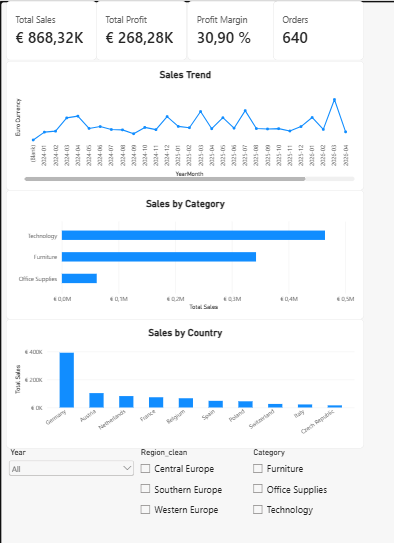

What the dashboard file says about the page in this screenshot:
{"tool":"powerbi","page":{"name":"Executive Overview","canvas":[1920,1080],"ordinal":0},"visuals":[{"type":"cardVisual","fields":{"Data":["FactSales.Total Sales"]},"box":[10,0,167,109],"z":0},{"type":"cardVisual","fields":{"Data":["FactSales.Total Profit"]},"box":[177,1,167,109],"z":1000},{"type":"cardVisual","fields":{"Data":["FactSales.Profit Margin"]},"box":[344,0,167,109],"z":2000},{"type":"cardVisual","fields":{"Data":["FactSales.Orders"]},"box":[501,0,167,109],"z":3000},{"type":"lineChart","title":"Sales Trend","fields":{"Category":["DimDate.YearMonth"],"Y":["FactSales.Total Sales"]},"box":[10,109,658,238],"z":4000},{"type":"barChart","title":"Sales by Category","fields":{"Category":["DimProduct.Category"],"Y":["FactSales.Total Sales"]},"box":[10,347,658,238],"z":5000},{"type":"columnChart","title":"Sales by Country","fields":{"Category":["DimCustomer.Country"],"Y":["FactSales.Total Sales"]},"box":[10,585,658,238],"z":6000},{"type":"slicer","fields":{"Values":["DimDate.Year"]},"box":[10,823,240,137],"z":7000},{"type":"slicer","fields":{"Values":["DimCustomer.Region_clean"]},"box":[250,823,209,137],"z":8000},{"type":"slicer","fields":{"Values":["DimProduct.Category"]},"box":[459,823,209,137],"z":9000}]}

Visuals, with their boxes on the page's 1920x1080 design canvas (x1, y1, x2, y2). These are canvas units, not pixel positions in the 394x543 screenshot, which may show the page scaled, cropped or inside an application window:
cardVisual - FactSales.Total Sales: <box>10,0,177,109</box>
cardVisual - FactSales.Total Profit: <box>177,1,344,110</box>
cardVisual - FactSales.Profit Margin: <box>344,0,511,109</box>
cardVisual - FactSales.Orders: <box>501,0,668,109</box>
"Sales Trend" lineChart: <box>10,109,668,347</box>
"Sales by Category" barChart: <box>10,347,668,585</box>
"Sales by Country" columnChart: <box>10,585,668,823</box>
slicer - DimDate.Year: <box>10,823,250,960</box>
slicer - DimCustomer.Region_clean: <box>250,823,459,960</box>
slicer - DimProduct.Category: <box>459,823,668,960</box>
